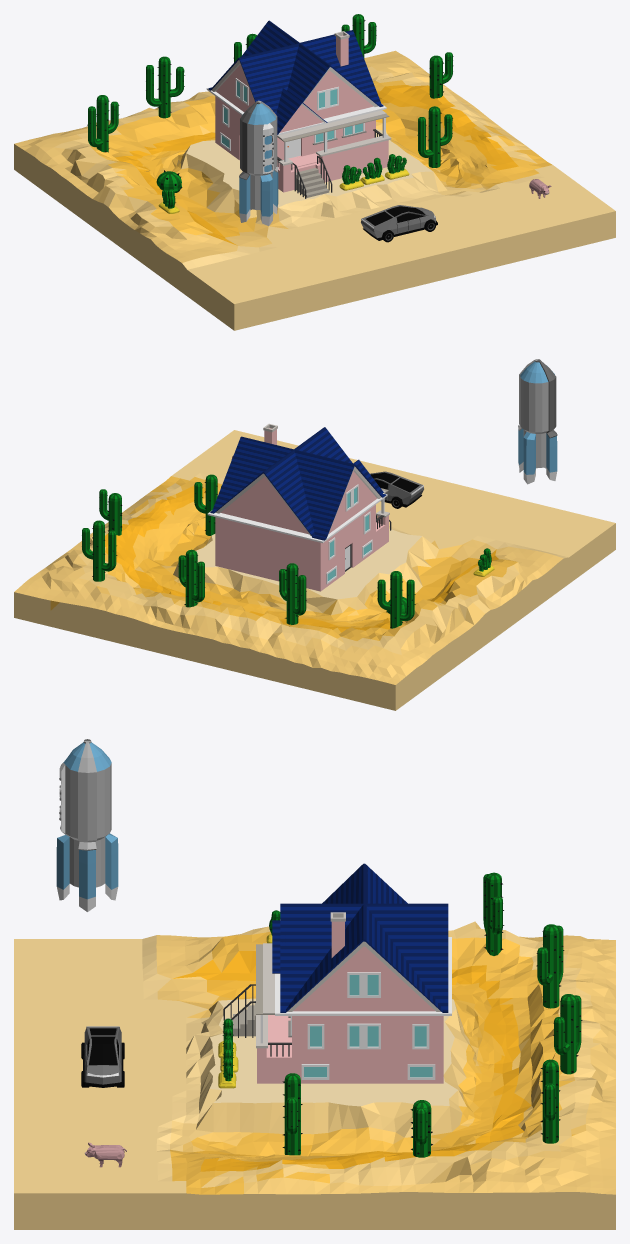
The picture shows the model from 3 angles, top to bottom: view 1: azimuth 30°, elevation 25°; view 2: azimuth 150°, elevation 25°; view 3: azimuth 270°, elevation 25°; orthographic projection. The views are drawn at different scales.
Visible parts, largest first — view 1: Cube.001, Cube.313, OBJRANDOM_ROCKETSHIP, VEHICLES_CYBERTRUCK, Cylinder.044, Cylinder.037, Cylinder.045, Cylinder.038, Cylinder.042, Cylinder.041, Cylinder.039, Sphere.023; view 2: Cube.001, Cube.313, OBJRANDOM_ROCKETSHIP, Cylinder.045, Cylinder.042, Cylinder.044, Cylinder.043, VEHICLES_CYBERTRUCK, Cylinder.037, Cylinder.038; view 3: Cube.001, Cube.313, OBJRANDOM_ROCKETSHIP, VEHICLES_CYBERTRUCK, Cylinder.044, Cylinder.043, Cylinder.045, Cylinder.042, Cylinder.037, Cylinder.038.
Part boxes in pixels (left/top/right/bottom): Cube.001: left=14, top=50, right=615, bottom=330; Cube.313: left=206, top=20, right=391, bottom=198; OBJRANDOM_ROCKETSHIP: left=239, top=100, right=278, bottom=225; VEHICLES_CYBERTRUCK: left=361, top=205, right=437, bottom=242; Cylinder.044: left=146, top=56, right=184, bottom=118; Cylinder.037: left=417, top=106, right=452, bottom=167; Cylinder.045: left=87, top=95, right=119, bottom=152; Cylinder.038: left=429, top=52, right=453, bottom=98; Cylinder.042: left=341, top=14, right=376, bottom=58; Cylinder.041: left=385, top=154, right=409, bottom=179; Cylinder.039: left=339, top=165, right=363, bottom=190; Sphere.023: left=156, top=170, right=182, bottom=192; Cube.001: left=14, top=430, right=615, bottom=710; Cube.313: left=207, top=423, right=391, bottom=591; OBJRANDOM_ROCKETSHIP: left=518, top=359, right=557, bottom=484; Cylinder.045: left=377, top=571, right=415, bottom=628; Cylinder.042: left=82, top=520, right=117, bottom=581; Cylinder.044: left=279, top=563, right=306, bottom=624; Cylinder.043: left=178, top=549, right=205, bottom=607; VEHICLES_CYBERTRUCK: left=370, top=471, right=423, bottom=508; Cylinder.037: left=194, top=474, right=221, bottom=535; Cylinder.038: left=99, top=489, right=122, bottom=535; Cube.001: left=14, top=921, right=615, bottom=1229; Cube.313: left=223, top=863, right=451, bottom=1083; OBJRANDOM_ROCKETSHIP: left=56, top=739, right=118, bottom=911; VEHICLES_CYBERTRUCK: left=81, top=1026, right=124, bottom=1087; Cylinder.044: left=536, top=924, right=564, bottom=1008; Cylinder.043: left=553, top=994, right=582, bottom=1074; Cylinder.045: left=483, top=872, right=504, bottom=955; Cylinder.042: left=540, top=1059, right=560, bottom=1143; Cylinder.037: left=282, top=1073, right=302, bottom=1155; Cylinder.038: left=410, top=1100, right=432, bottom=1157.
Size of the model in its own units: 4002 by 2051 by 4001.
Materials: 37 (2 with a texture image).
